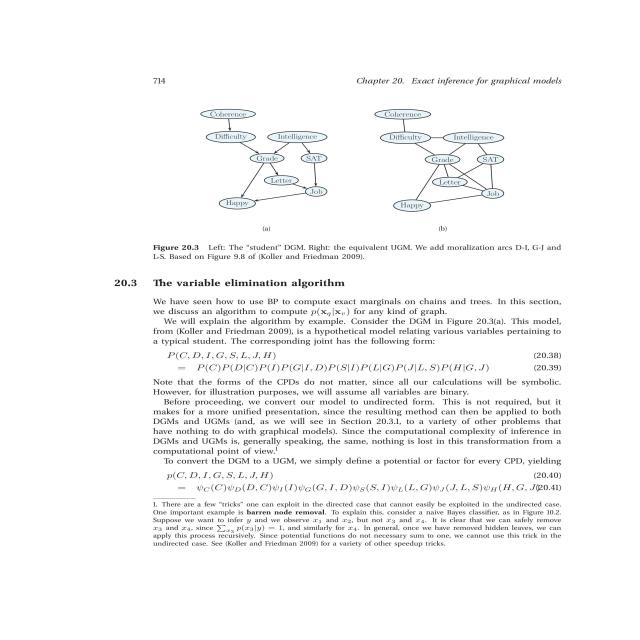diagram: (123, 98, 597, 272)
